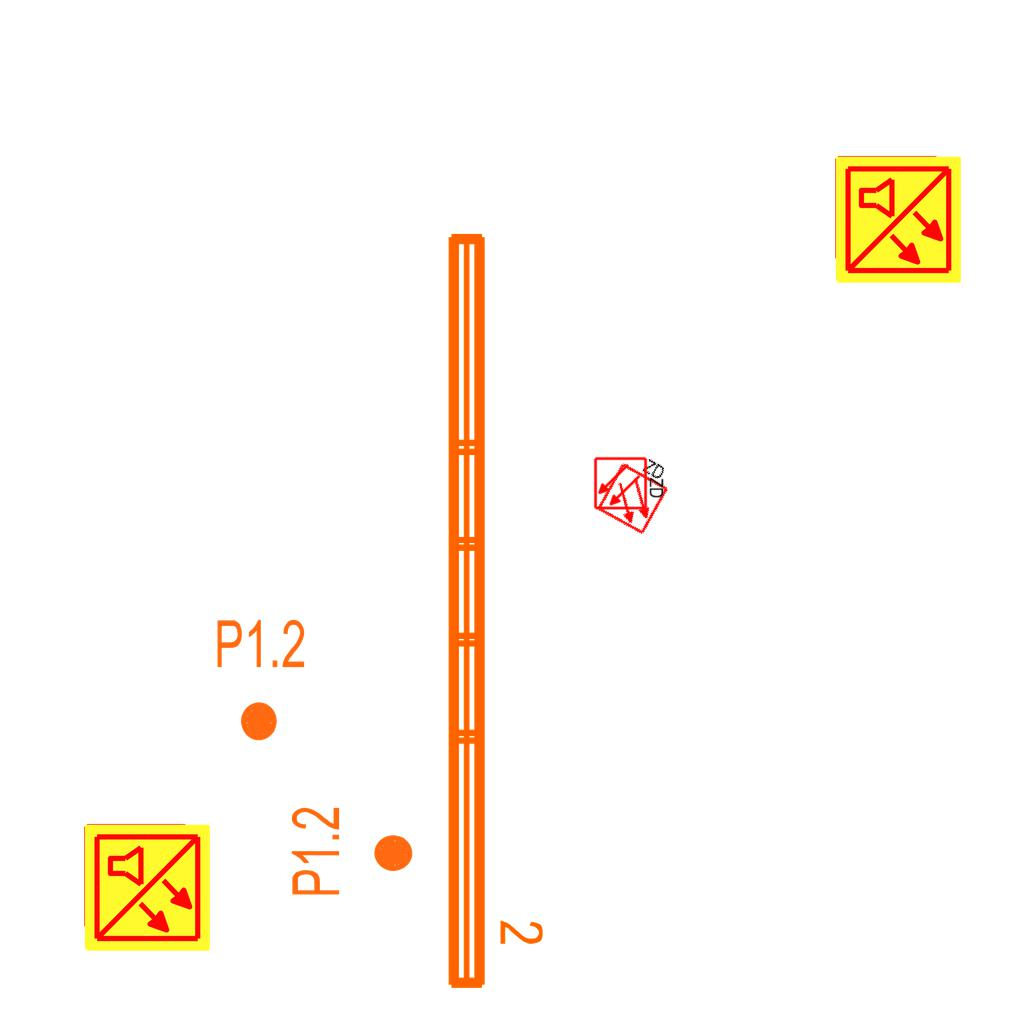Ambulanz_Pendelleuchte_LED: (436, 223, 548, 997)
Downlight_LED_Einbauleuchten_Flur: (214, 616, 307, 744), (288, 805, 416, 898)
OKW_Multisensormelder_(Kombination_optischer_Rauch-Kahlenmonoxid_Waerme-Melder): (832, 154, 964, 286), (81, 822, 213, 954)
ZD_Melder_in_Zwischendecke_mit_Revisionsoeffnung_mind_40_x_40_cm: (593, 443, 680, 537), (593, 454, 667, 511)
